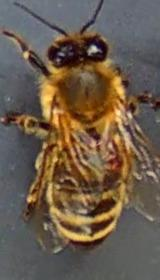varroa_mite: (94, 146, 136, 178)
